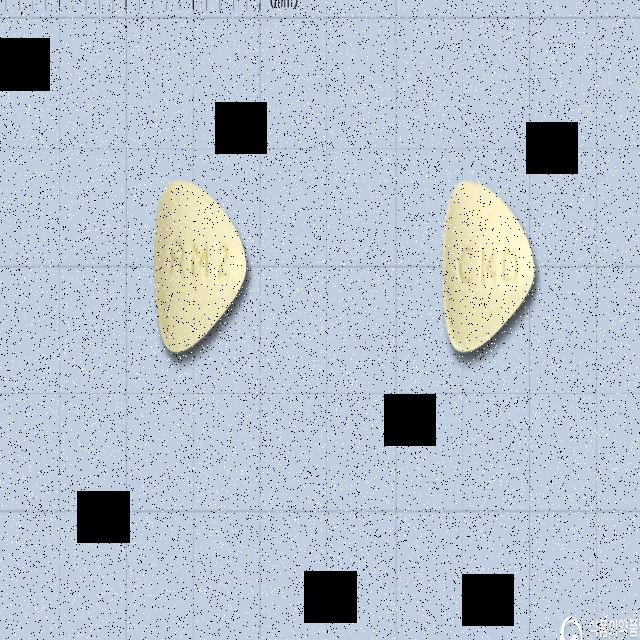Leflunomide - 20mg: (442, 179, 536, 353), (154, 181, 248, 354)
